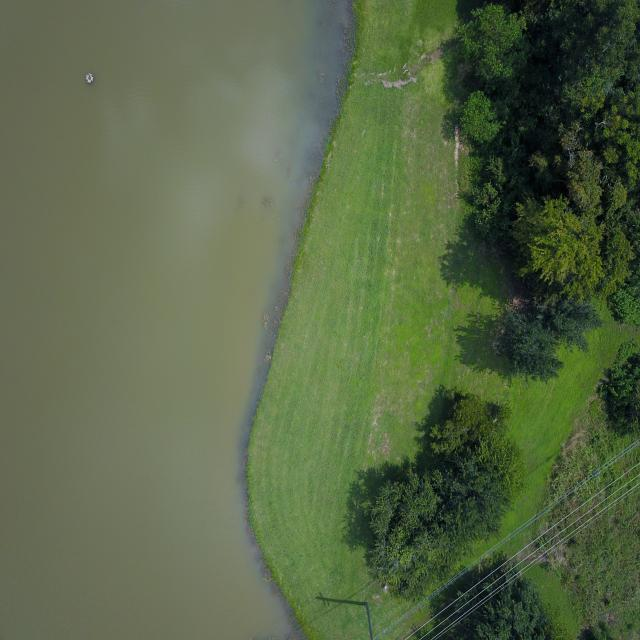fire: (0, 1, 349, 639)
